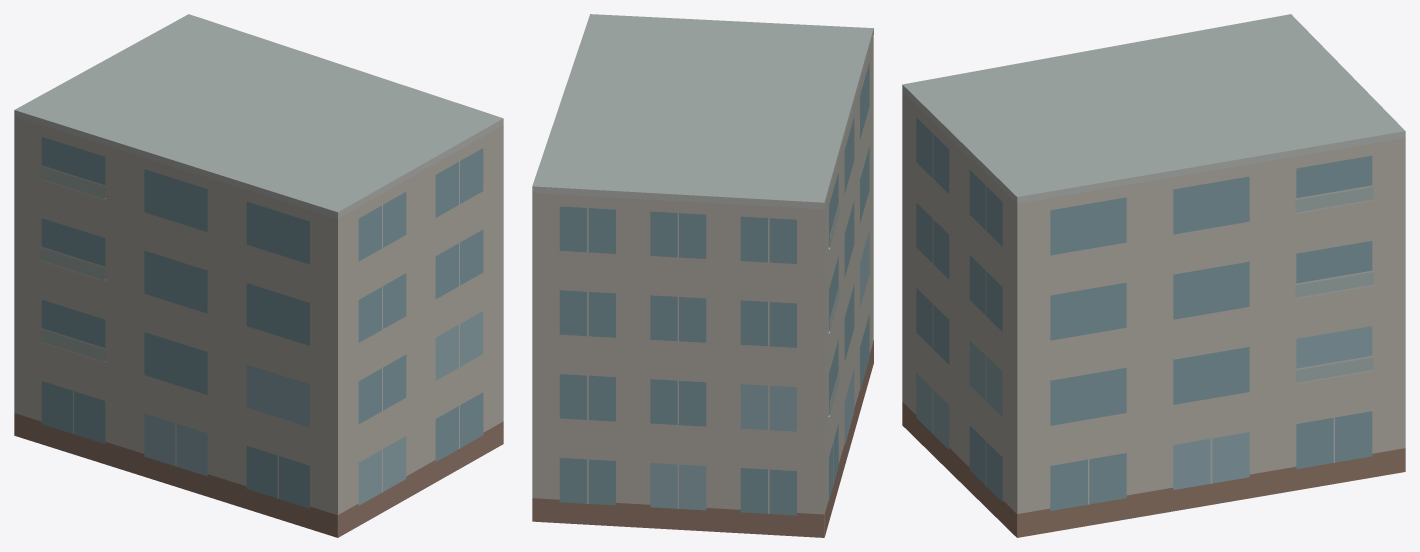
Rendered from survey-upis-32740082.glb.
3 renders of one model, left to right at view 1: azimuth 30°, elevation 25°; view 2: azimuth 150°, elevation 25°; view 3: azimuth 270°, elevation 25°, orthographic. The views are drawn at different scales.
Visible parts, largest first — view 1: survey-upis-32740082.tmp; view 2: survey-upis-32740082.tmp; view 3: survey-upis-32740082.tmp.
Boxes of the visible parts, x1,y1,x2,y2 form: survey-upis-32740082.tmp: [14, 14, 503, 537]; survey-upis-32740082.tmp: [532, 14, 873, 537]; survey-upis-32740082.tmp: [902, 14, 1405, 537].
Bounding box in the file's own units: 14.3 × 12.4 × 16.61.
